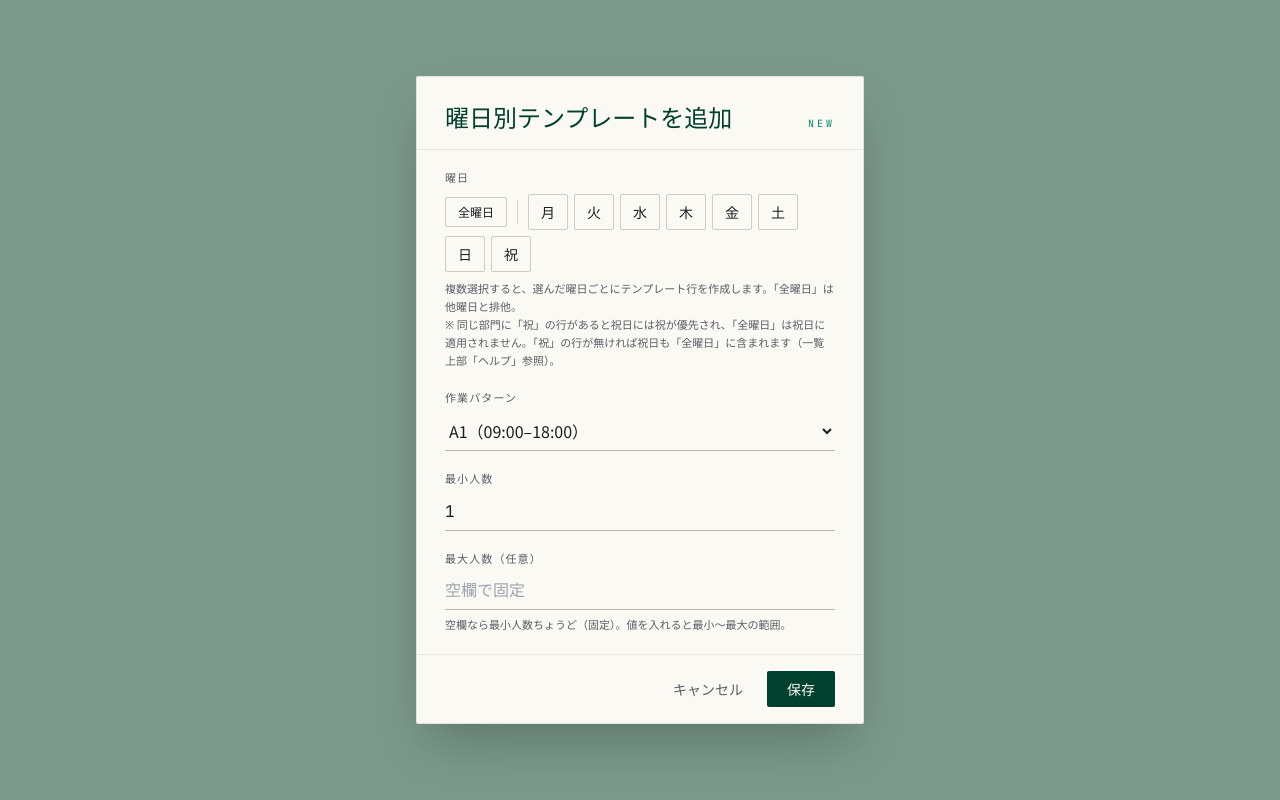
Test case: DayTemplateFormModal — required_min / required_max › rejects submit when 最大人数 < 最小人数
This screenshot has width=1280, height=800.
Replace the text in the number field labelled "最小人数" with "3" at (640, 512), box left=445, top=494, right=835, bottom=531
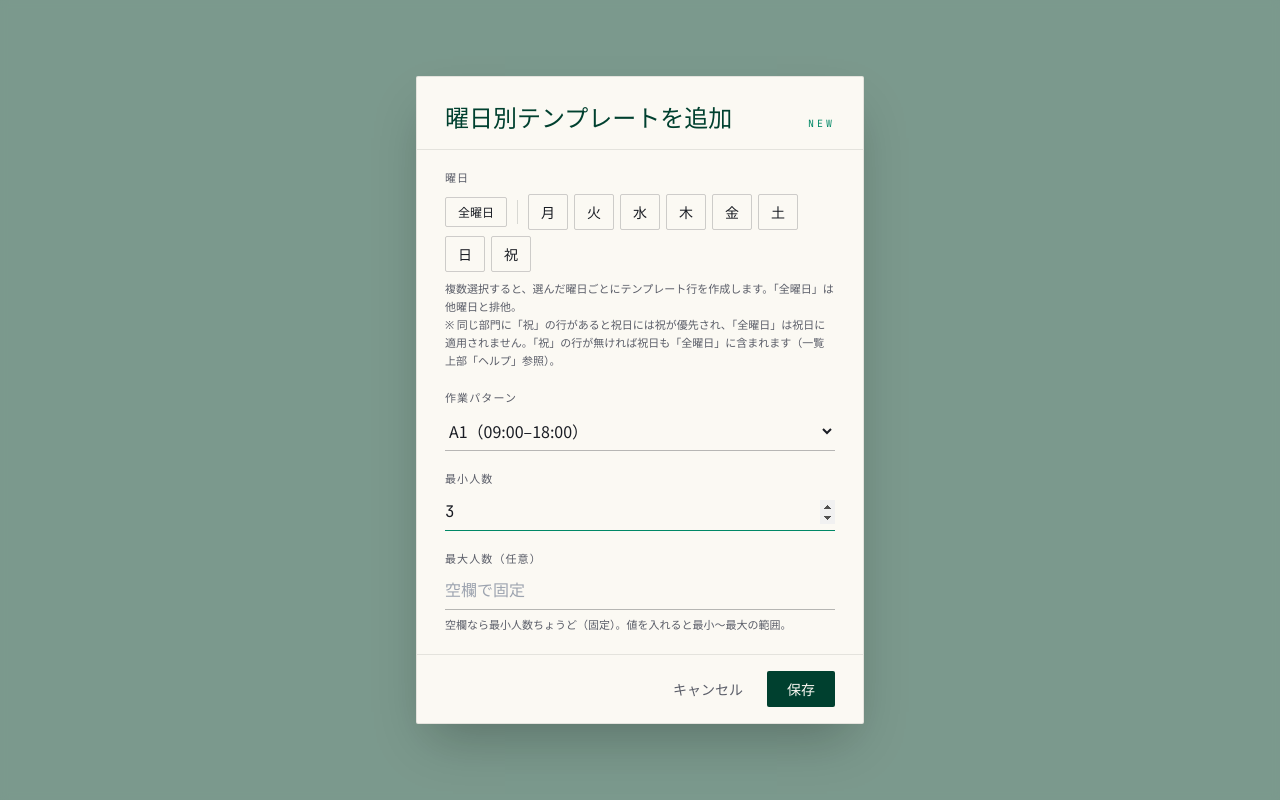
Type "1" into the number field labelled "最大人数（任意） 空欄なら最小人数ちょうど（固定）。値を入れると最小〜最大の範囲。" at (640, 592), box left=445, top=573, right=835, bottom=610
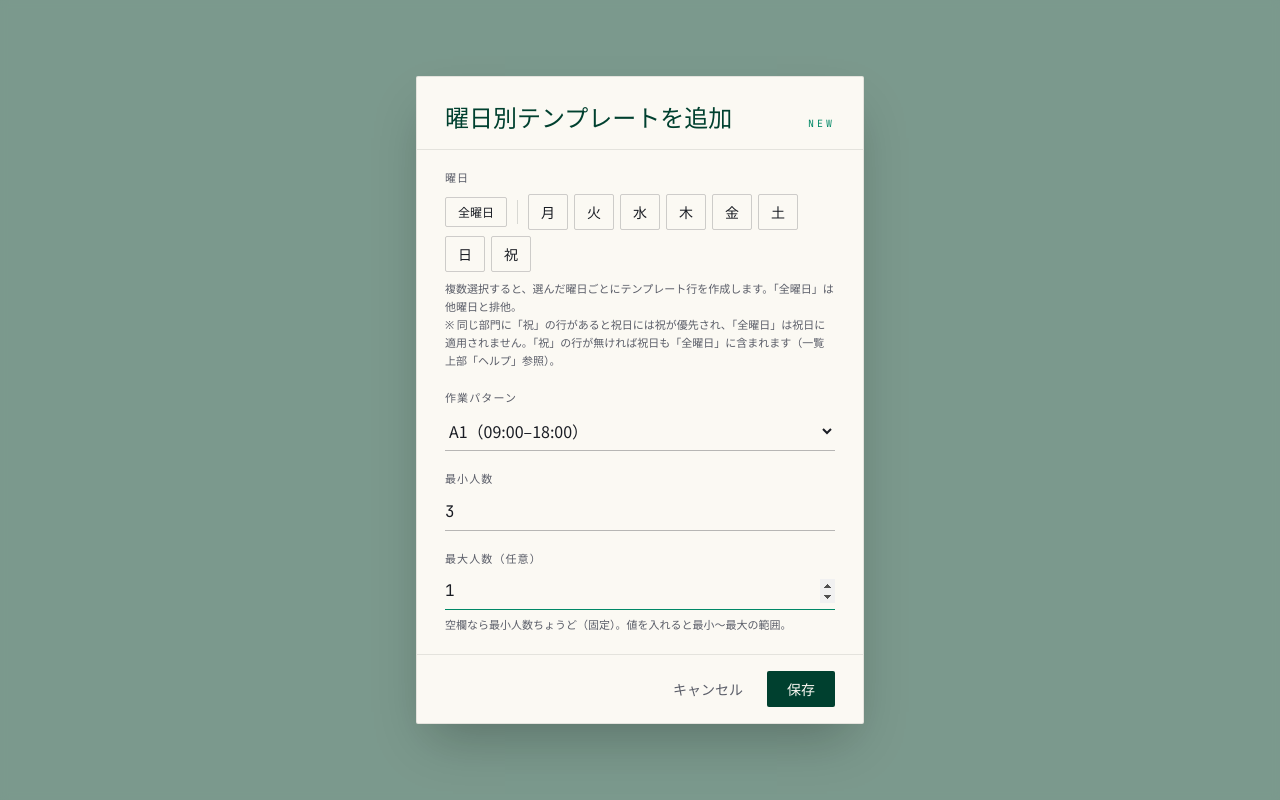
Click the button "月" at (548, 212), box left=528, top=194, right=568, bottom=230
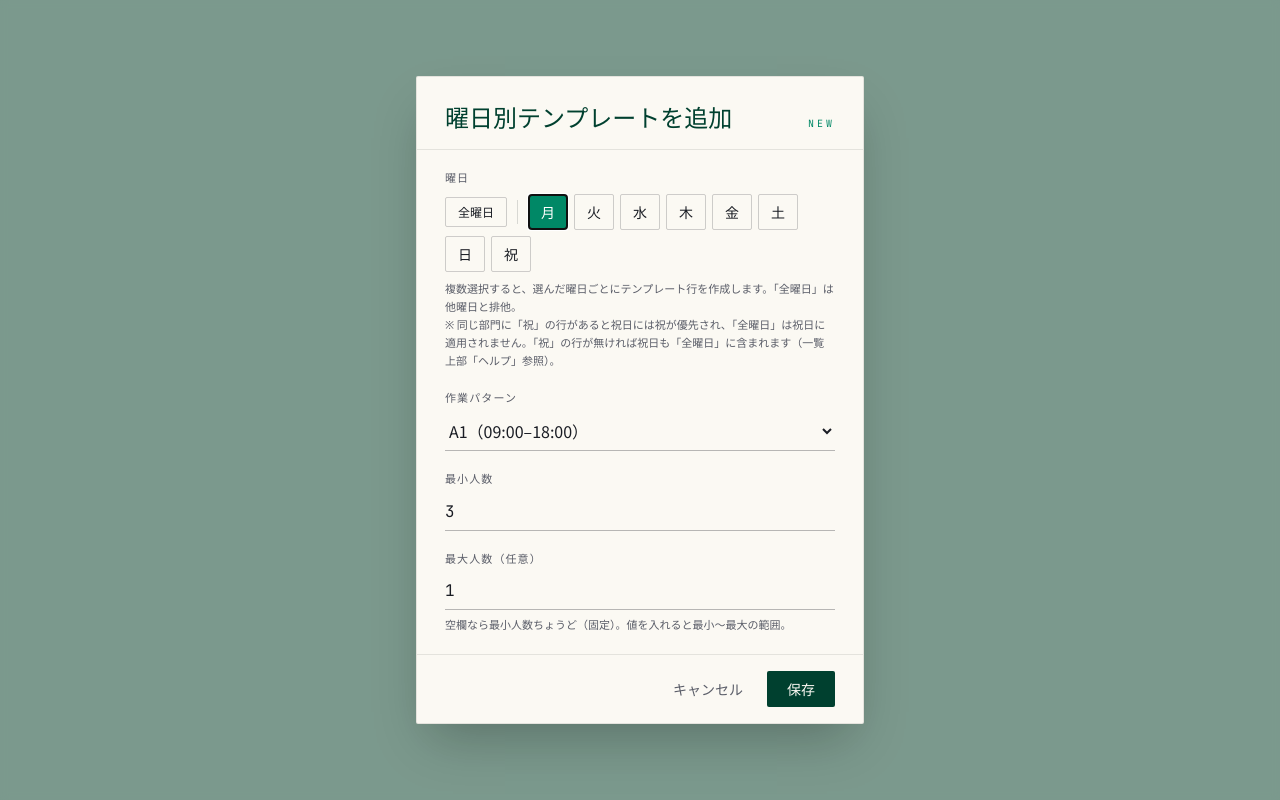
Click the button "保存" at (801, 689), box left=767, top=671, right=835, bottom=707
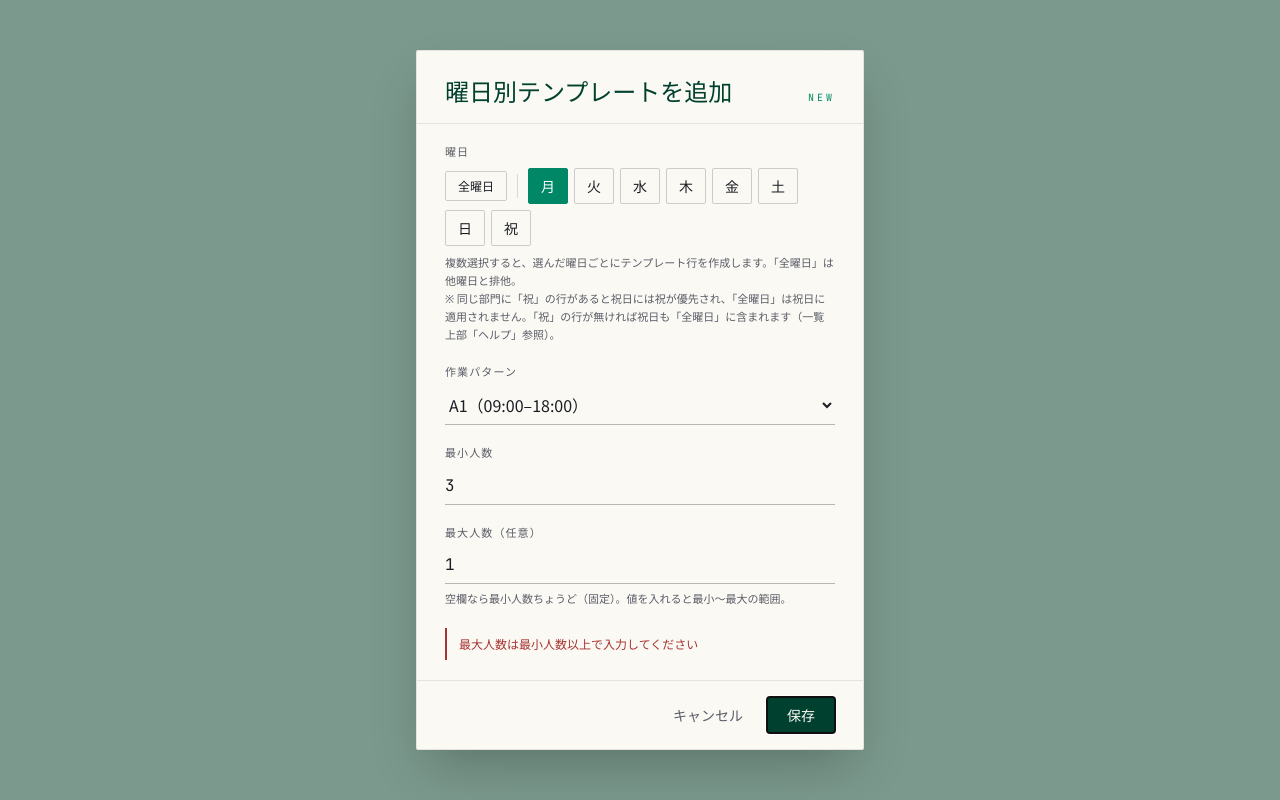
Now the text "最大人数は最小人数以上で入力してください" is shown, box left=445, top=628, right=835, bottom=660
